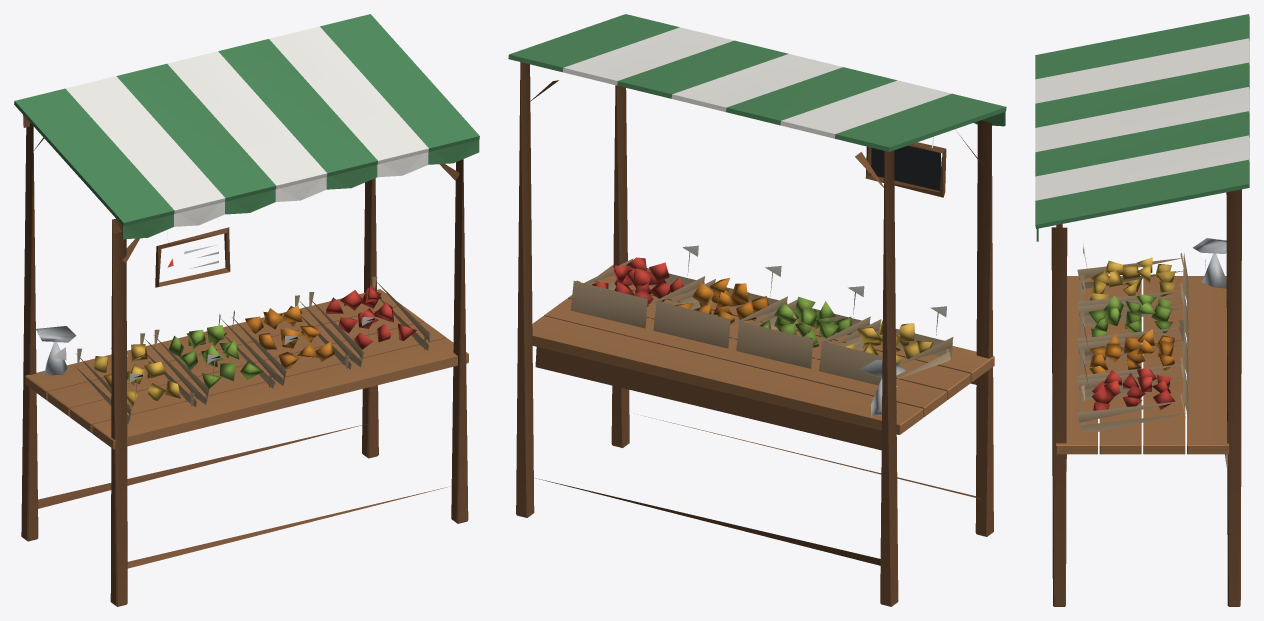
The model's file is marketStall.far.glb.
The picture shows the model from 3 angles, left to right: view 1: azimuth 30°, elevation 25°; view 2: azimuth 150°, elevation 25°; view 3: azimuth 270°, elevation 25°; orthographic projection. The views are drawn at different scales.
Visible parts, largest first — view 1: marketStall_far; view 2: marketStall_far; view 3: marketStall_far.
Boxes of the visible parts, box(x1,y1,x2,y2) form: marketStall_far: box(14, 14, 479, 606); marketStall_far: box(508, 14, 1006, 606); marketStall_far: box(1035, 14, 1249, 606).
Bounding box in the file's own units: 1.84 × 2.14 × 0.9823.
